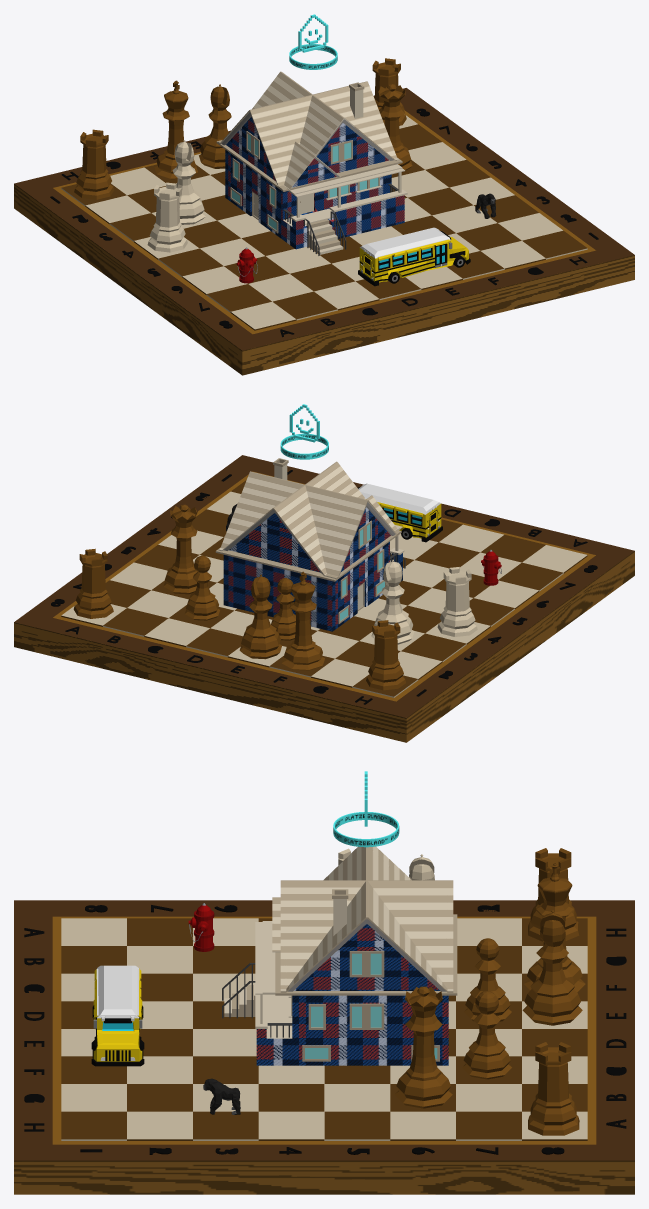
3 renders of one model, top to bottom at view 1: azimuth 30°, elevation 25°; view 2: azimuth 150°, elevation 25°; view 3: azimuth 270°, elevation 25°, orthographic. The views are drawn at different scales.
Visible parts, largest first — view 1: Cube.002, Cube.171, VEHICLES_SCHOOL_BUS, TYPE_PREMIUM, OBJRANDOM_FIRE_HYDRANT; view 2: Cube.002, Cube.171, VEHICLES_SCHOOL_BUS, TYPE_PREMIUM, OBJRANDOM_FIRE_HYDRANT; view 3: Cube.002, Cube.171, VEHICLES_SCHOOL_BUS, TYPE_PREMIUM, OBJRANDOM_FIRE_HYDRANT, ANIMAL_GORILA.
Boxes of the visible parts, x1=… form: Cube.002: x1=14, y1=58, x2=634, y2=375; Cube.171: x1=216, y1=71, x2=407, y2=255; VEHICLES_SCHOOL_BUS: x1=358, y1=227, x2=470, y2=286; TYPE_PREMIUM: x1=289, y1=14, x2=337, y2=69; OBJRANDOM_FIRE_HYDRANT: x1=236, y1=247, x2=257, y2=283; Cube.002: x1=14, y1=455, x2=634, y2=742; Cube.171: x1=215, y1=458, x2=405, y2=631; VEHICLES_SCHOOL_BUS: x1=358, y1=483, x2=442, y2=542; TYPE_PREMIUM: x1=280, y1=404, x2=328, y2=459; OBJRANDOM_FIRE_HYDRANT: x1=481, y1=550, x2=501, y2=585; Cube.002: x1=14, y1=848, x2=634, y2=1194; Cube.171: x1=222, y1=846, x2=457, y2=1065; VEHICLES_SCHOOL_BUS: x1=91, y1=965, x2=144, y2=1066; TYPE_PREMIUM: x1=333, y1=771, x2=399, y2=847; OBJRANDOM_FIRE_HYDRANT: x1=188, y1=903, x2=214, y2=951; ANIMAL_GORILA: x1=203, y1=1078, x2=240, y2=1114.
Bounding box in the file's own units: 3981 × 2201 × 4012.
36 materials, 5 textured.
